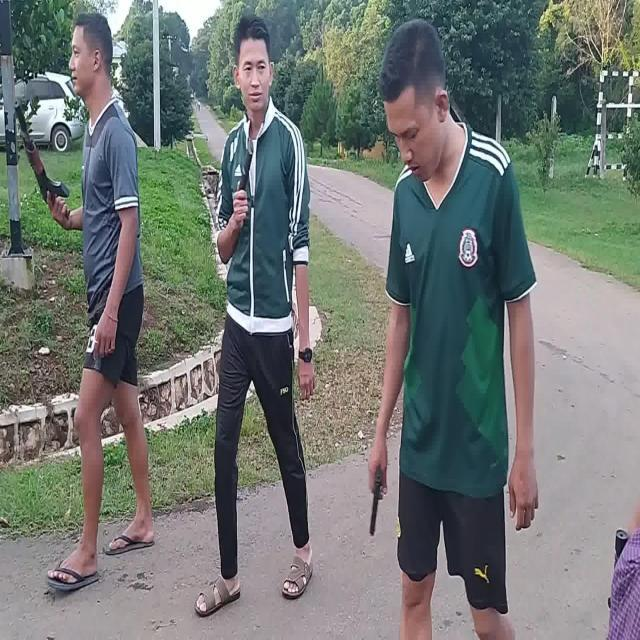gun: (14, 100, 70, 218), (370, 474, 382, 534)
